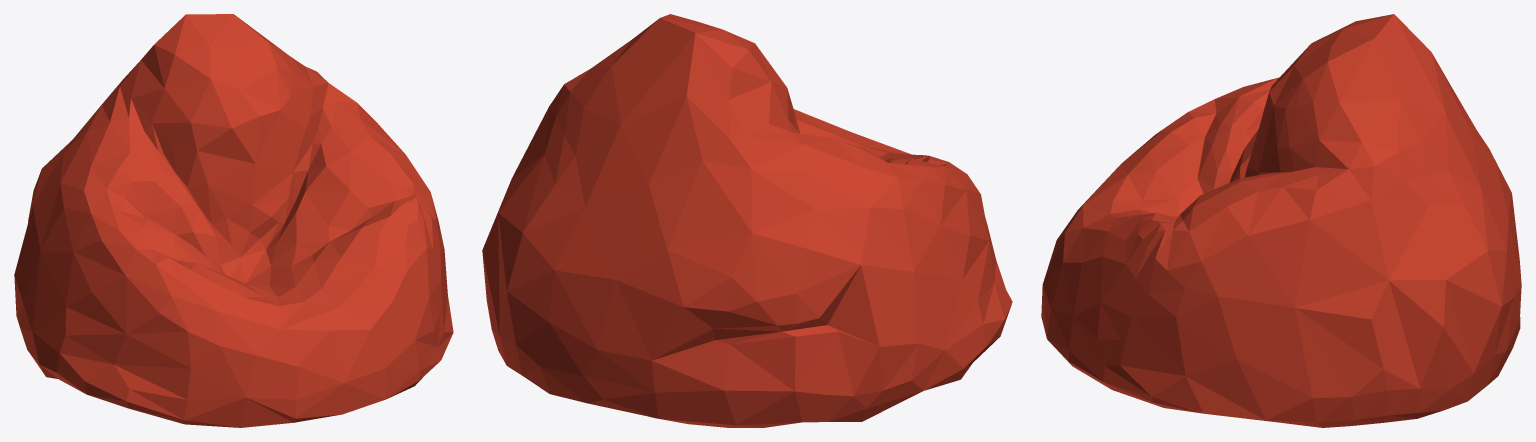
Rendered from Int_Pouf02_1.fbx.
The picture shows the model from 3 angles, left to right: view 1: azimuth 30°, elevation 25°; view 2: azimuth 150°, elevation 25°; view 3: azimuth 270°, elevation 25°; orthographic projection. The views are drawn at different scales.
Visible parts, largest first — view 1: Int_Pouf02_1; view 2: Int_Pouf02_1; view 3: Int_Pouf02_1.
Boxes of the visible parts, left/top/right/bottom form: Int_Pouf02_1: left=14, top=14, right=453, bottom=427; Int_Pouf02_1: left=482, top=14, right=1012, bottom=427; Int_Pouf02_1: left=1041, top=14, right=1521, bottom=427.
Size of what is drawn, in the model's own units: 137 by 139 by 104.
